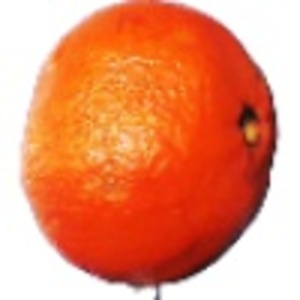tangerina: (18, 1, 281, 300)
